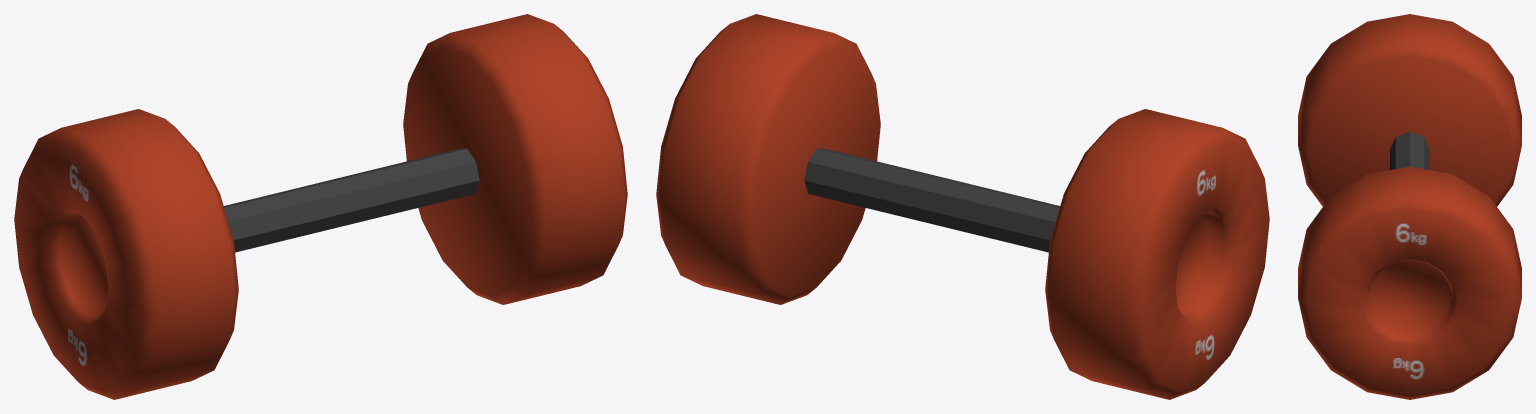
Rendered from Dumbbells_1.fbx.
3 views of the same model, side by side, from view 1: azimuth 30°, elevation 25°; view 2: azimuth 150°, elevation 25°; view 3: azimuth 270°, elevation 25° (orthographic). The views are drawn at different scales.
Visible parts, largest first — view 1: Dumbbells_1; view 2: Dumbbells_1; view 3: Dumbbells_1.
Boxes of the visible parts, x1,y1,x2,y2 form: Dumbbells_1: (14,14,627,399); Dumbbells_1: (656,14,1269,399); Dumbbells_1: (1298,14,1521,399).
Bounding box in the file's own units: 35.22 × 17.5 × 17.5.
